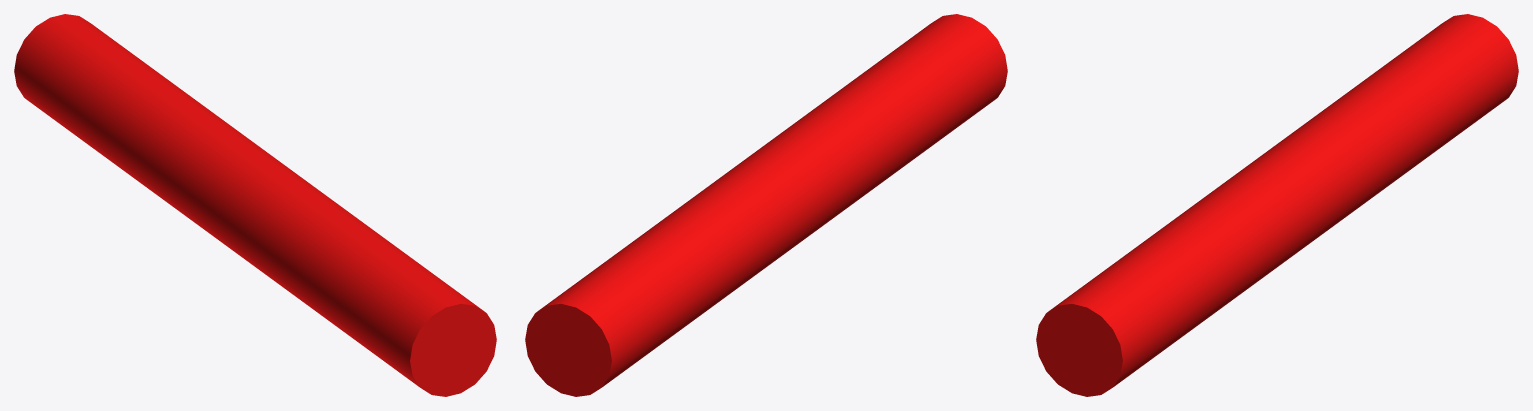
Rendered from Mapa02_Laser01.FBX.
3 views of the same model, side by side, from view 1: azimuth 30°, elevation 25°; view 2: azimuth 150°, elevation 25°; view 3: azimuth 330°, elevation 25° (orthographic).
Parts seen in each view (by area): view 1: Laser01_Mapa02; view 2: Laser01_Mapa02; view 3: Laser01_Mapa02.
Part boxes in pixels (bbox=[...]): Laser01_Mapa02: bbox=[14, 14, 496, 396]; Laser01_Mapa02: bbox=[525, 14, 1007, 396]; Laser01_Mapa02: bbox=[1036, 14, 1518, 396].
Size of the model in its own units: 6.35 by 6.26 by 50.14.
